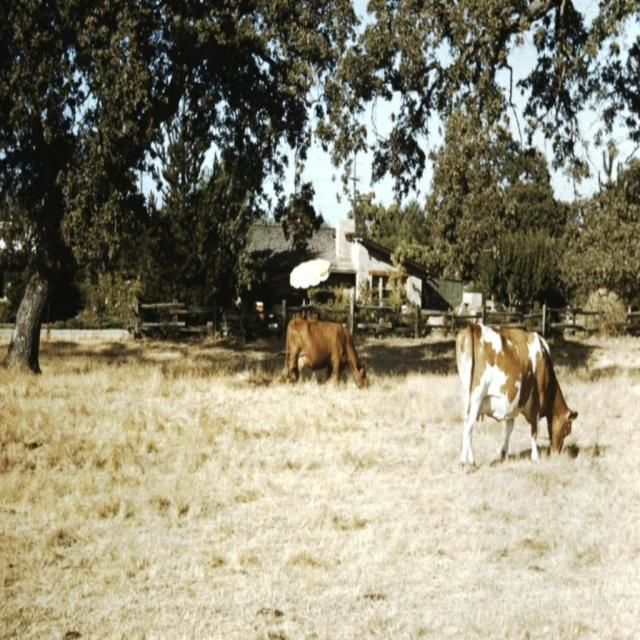Cattle: (456, 322, 578, 466), (284, 318, 369, 392)
